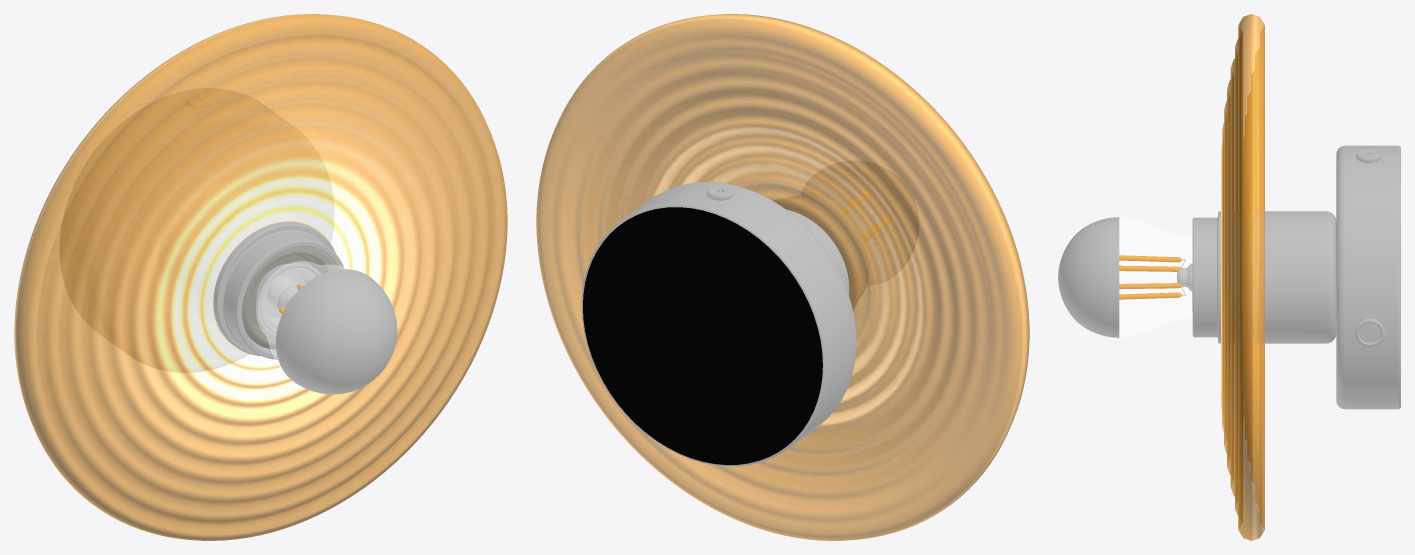
3 views of the same model, side by side, from view 1: azimuth 30°, elevation 25°; view 2: azimuth 150°, elevation 25°; view 3: azimuth 270°, elevation 25° (orthographic). The views are drawn at different scales.
Parts seen in each view (by area): view 1: 6024; view 2: 6024; view 3: 6024.
Part boxes in pixels (<box>): 6024: <box>14,14,507,540</box>; 6024: <box>536,14,1029,540</box>; 6024: <box>1058,14,1400,540</box>.
Size of the model in its own units: 0.1998 by 0.1998 by 0.13.
4 materials, 1 textured.
